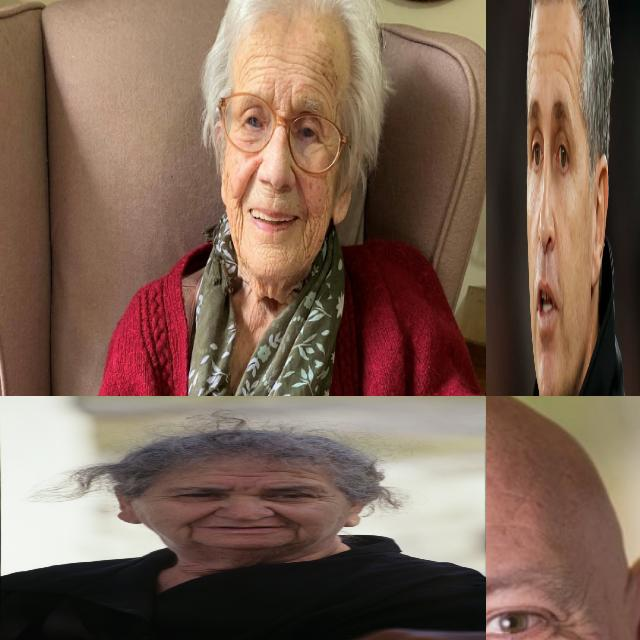chin: (255, 236, 287, 256)
crows_feet: (547, 611, 595, 640), (308, 493, 338, 503), (149, 493, 173, 502)
forehead: (302, 48, 339, 90), (243, 51, 275, 84), (273, 467, 324, 478), (564, 32, 574, 72), (212, 471, 266, 478), (556, 46, 564, 80), (530, 47, 536, 83), (564, 71, 572, 96), (548, 39, 555, 67)
frown_line: (270, 87, 280, 115), (285, 84, 295, 110)
gummy_smile: (290, 167, 310, 207), (240, 166, 258, 201), (188, 507, 218, 524), (269, 510, 304, 524)
masseter: (318, 200, 328, 224)
sad_smile: (299, 215, 313, 256), (232, 208, 245, 252), (177, 526, 204, 538), (288, 527, 312, 540)
